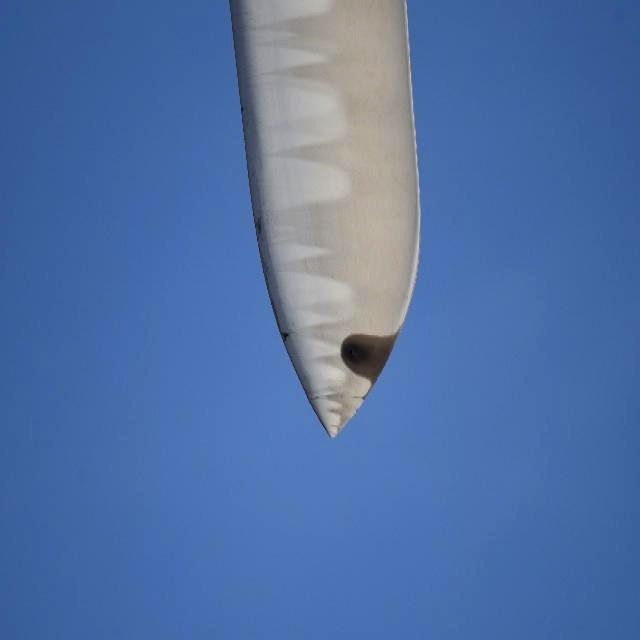Burn Mark: (337, 329, 401, 388)
Coating_defects: (278, 330, 292, 348), (252, 218, 265, 235)
